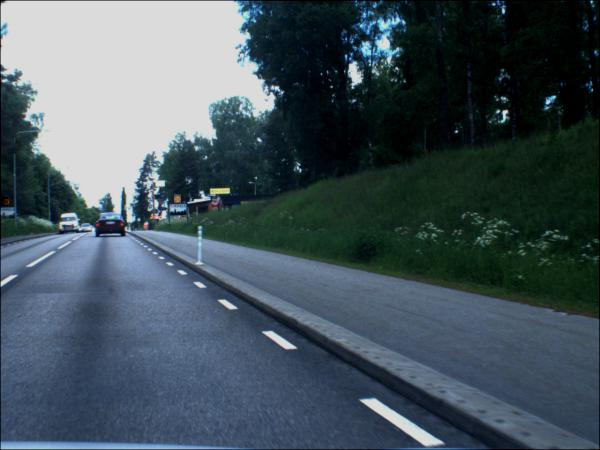50_SIGN: (176, 195, 184, 205), (2, 198, 10, 208)
